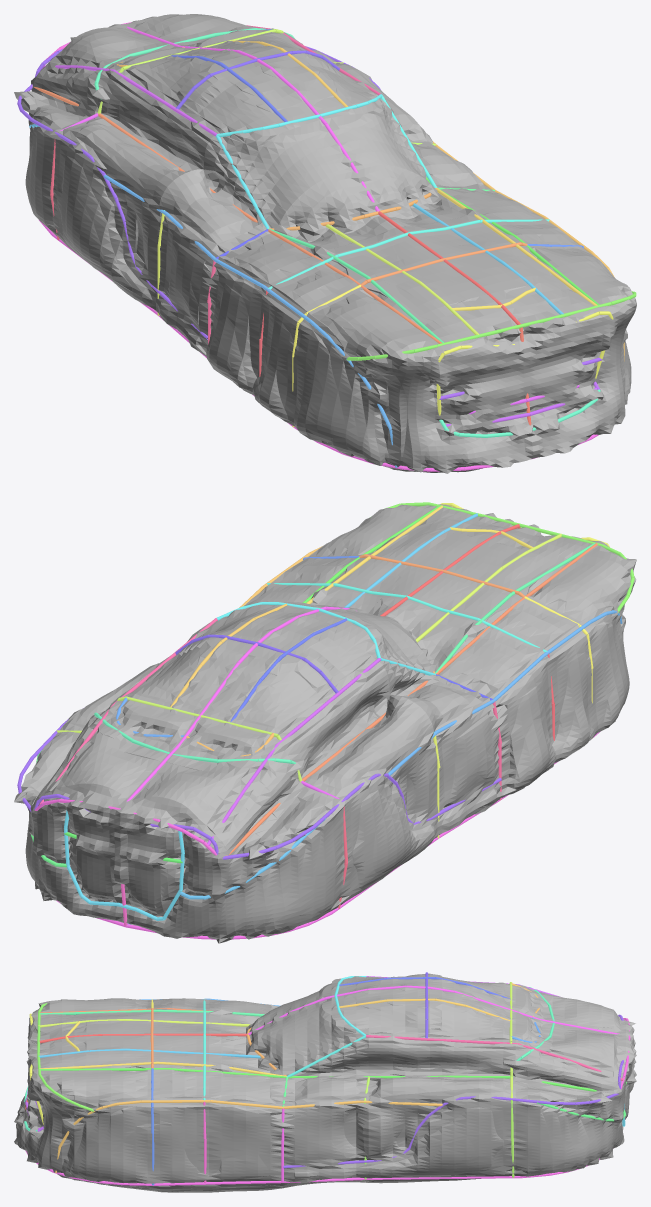
Rendered from t2f_car_97.gltf.
3 views of the same model, one above another, from view 1: azimuth 30°, elevation 25°; view 2: azimuth 150°, elevation 25°; view 3: azimuth 270°, elevation 25° (orthographic). The views are drawn at different scales.
Bounding box in the file's own units: 0.4013 × 0.2699 × 0.9165.
